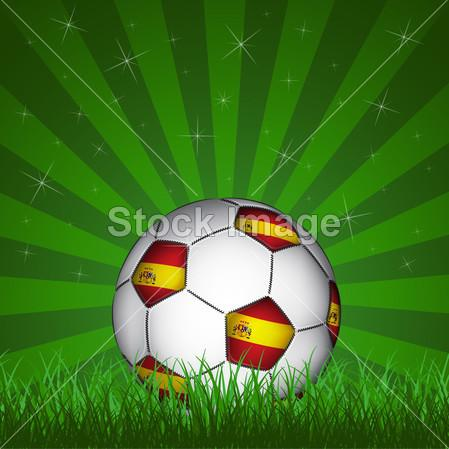football: (108, 194, 342, 399)
